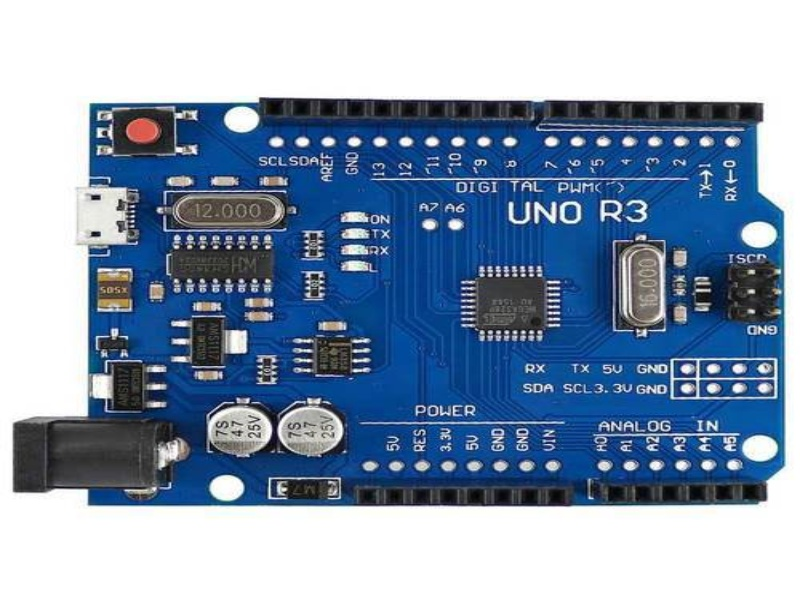uno: (54, 70, 792, 522)
